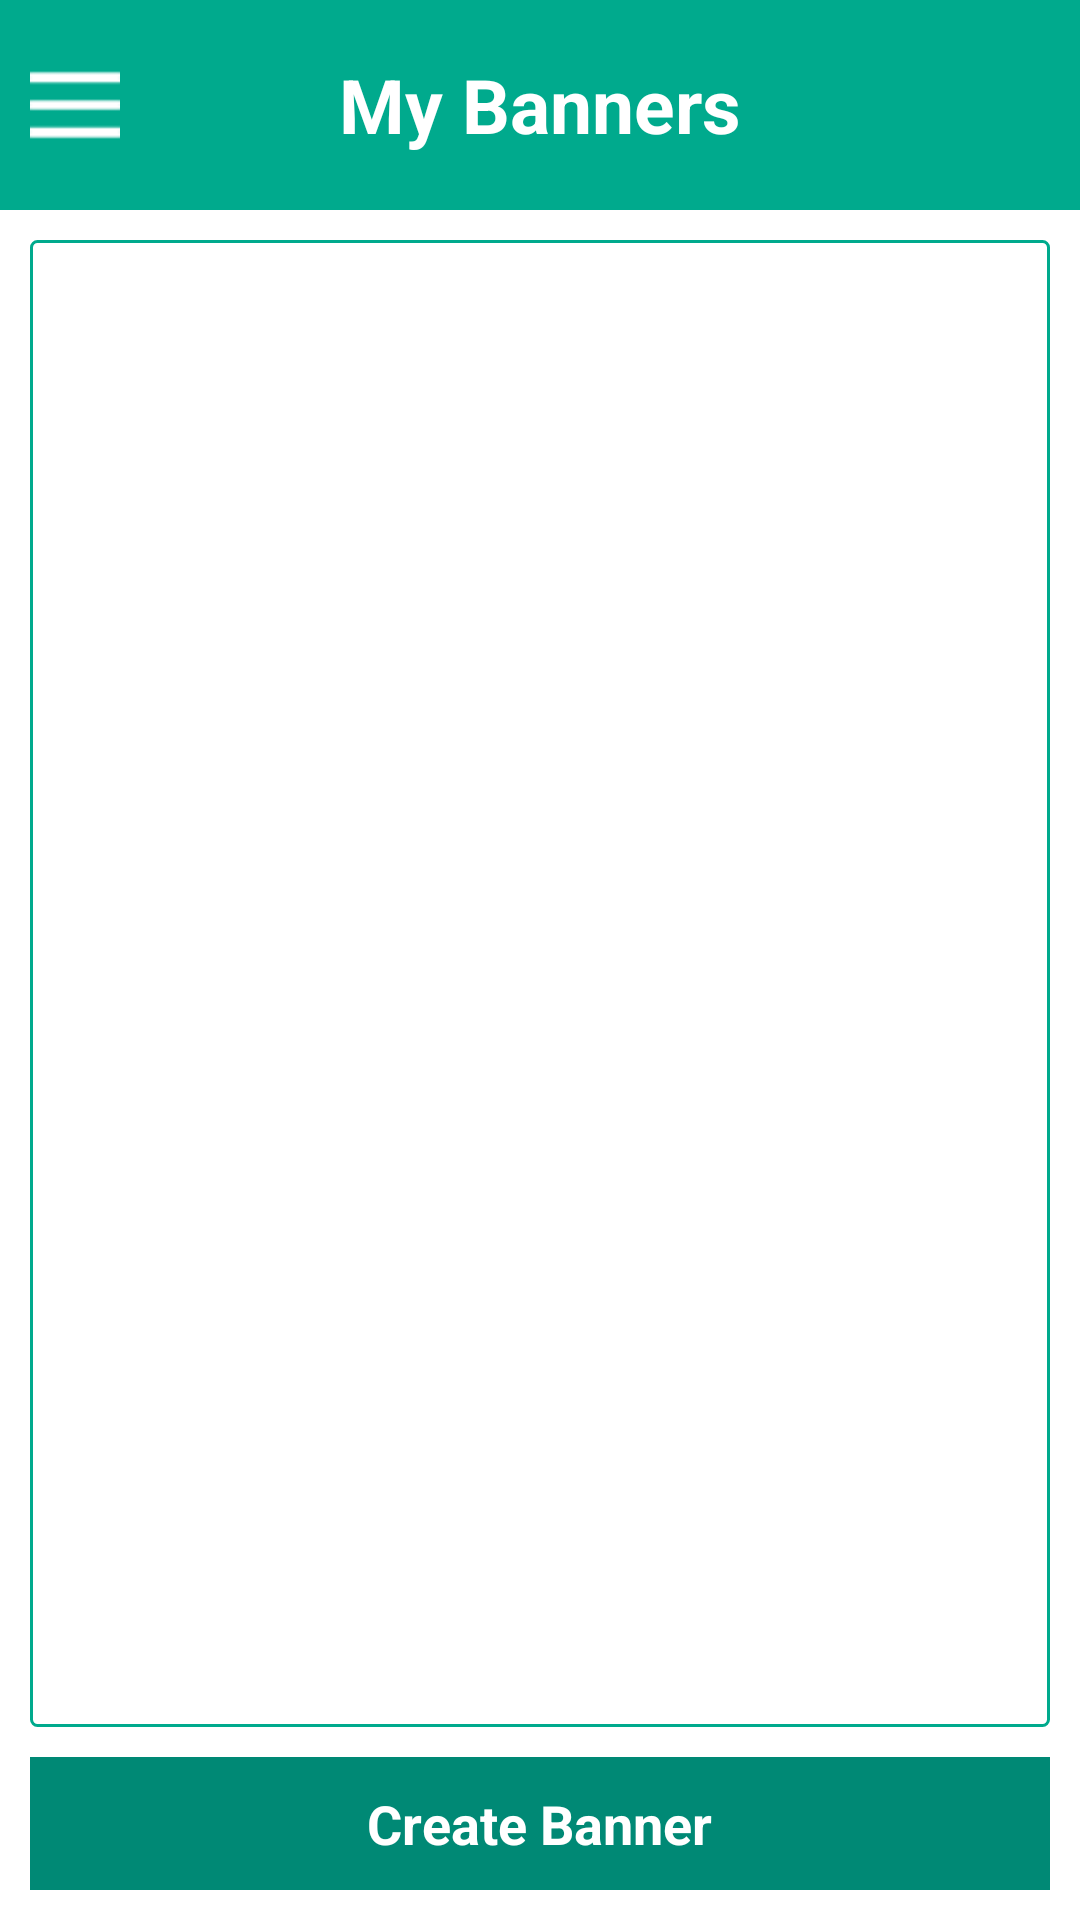

Point at icon controls on the screen. Image size 1080 × 1920, points as (x,y).
menu: (75,105)
